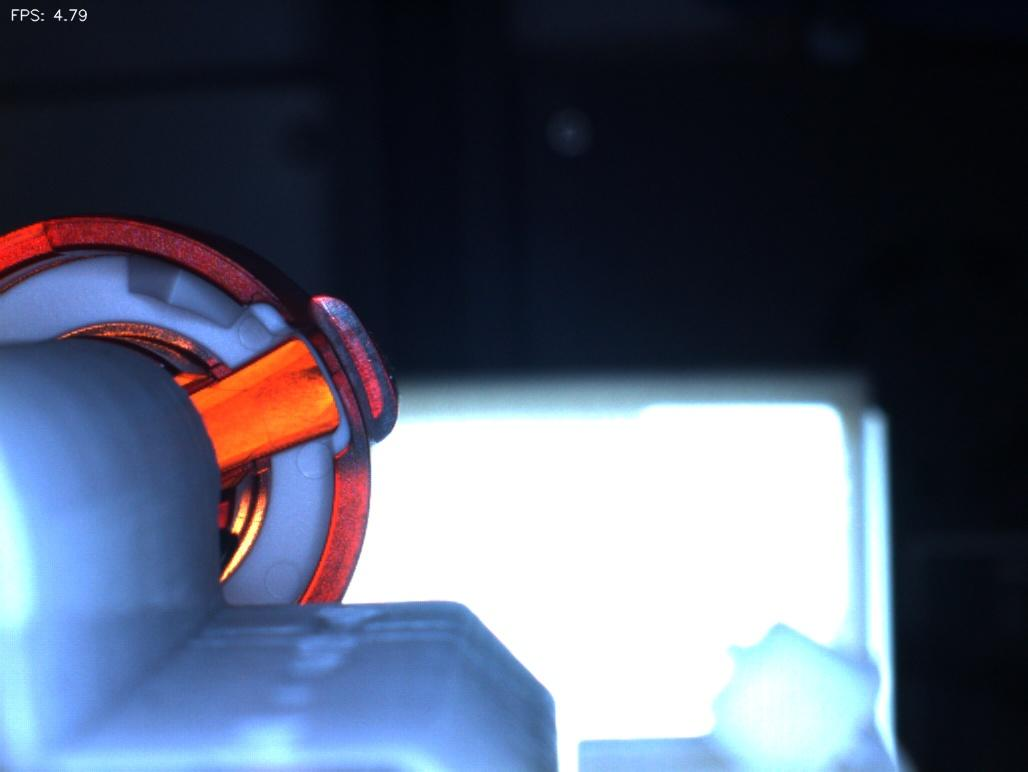Retassure: (246, 355, 341, 438)
